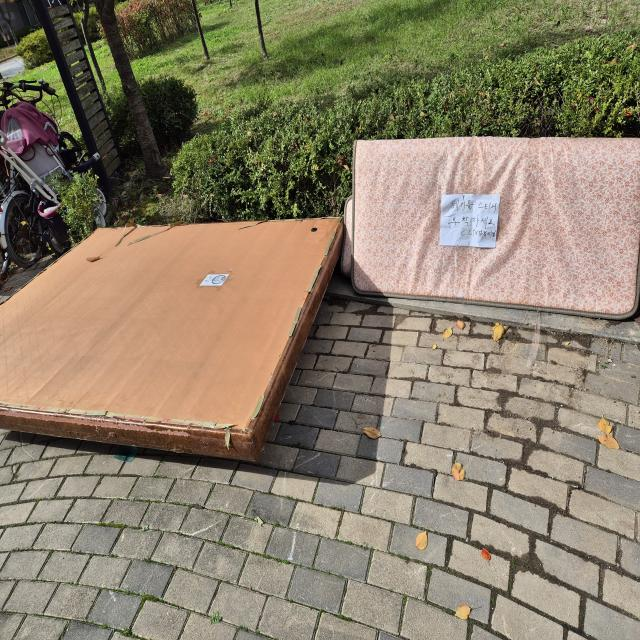Large Waste Items: (0, 200, 353, 489), (340, 120, 640, 334)
